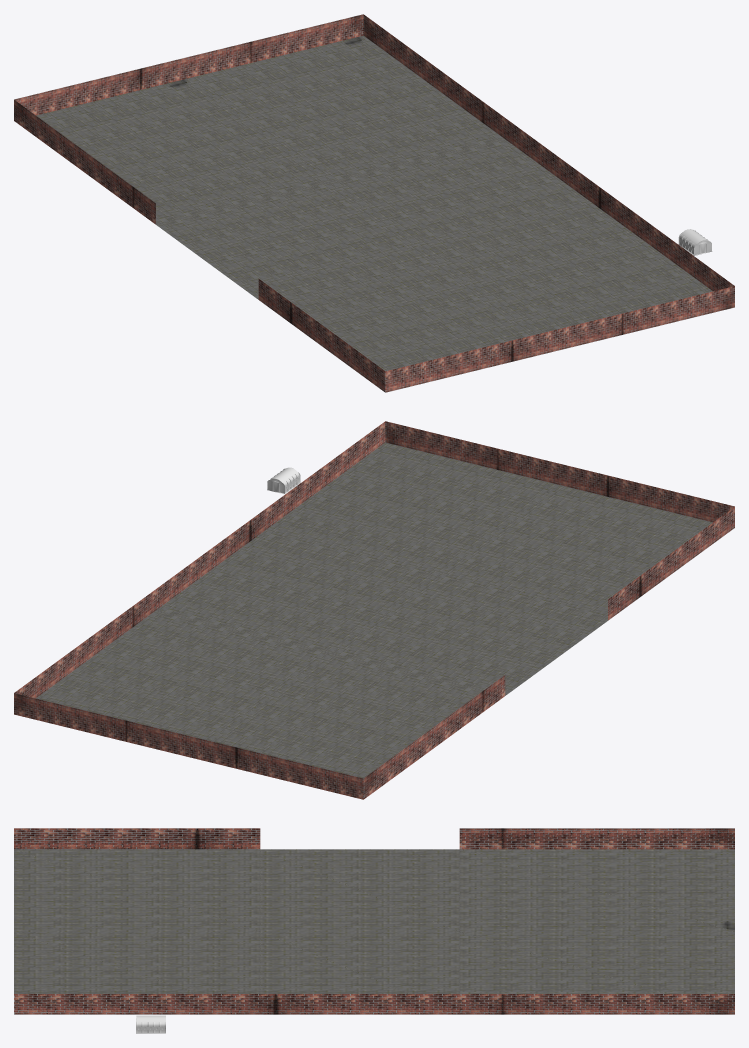
Rendered from Air Port.fbx.
The picture shows the model from 3 angles, top to bottom: view 1: azimuth 30°, elevation 25°; view 2: azimuth 150°, elevation 25°; view 3: azimuth 270°, elevation 25°; orthographic projection. The views are drawn at different scales.
Visible parts, largest first — view 1: Airport Base; view 2: Airport Base; view 3: Airport Base.
Boxes of the visible parts, box(x1,y1,x2,y2) form: Airport Base: box(14, 14, 734, 392); Airport Base: box(14, 421, 734, 799); Airport Base: box(14, 828, 734, 1014).
Size of the model in its own units: 12116 by 637 by 20008.
2 materials, 1 textured.
